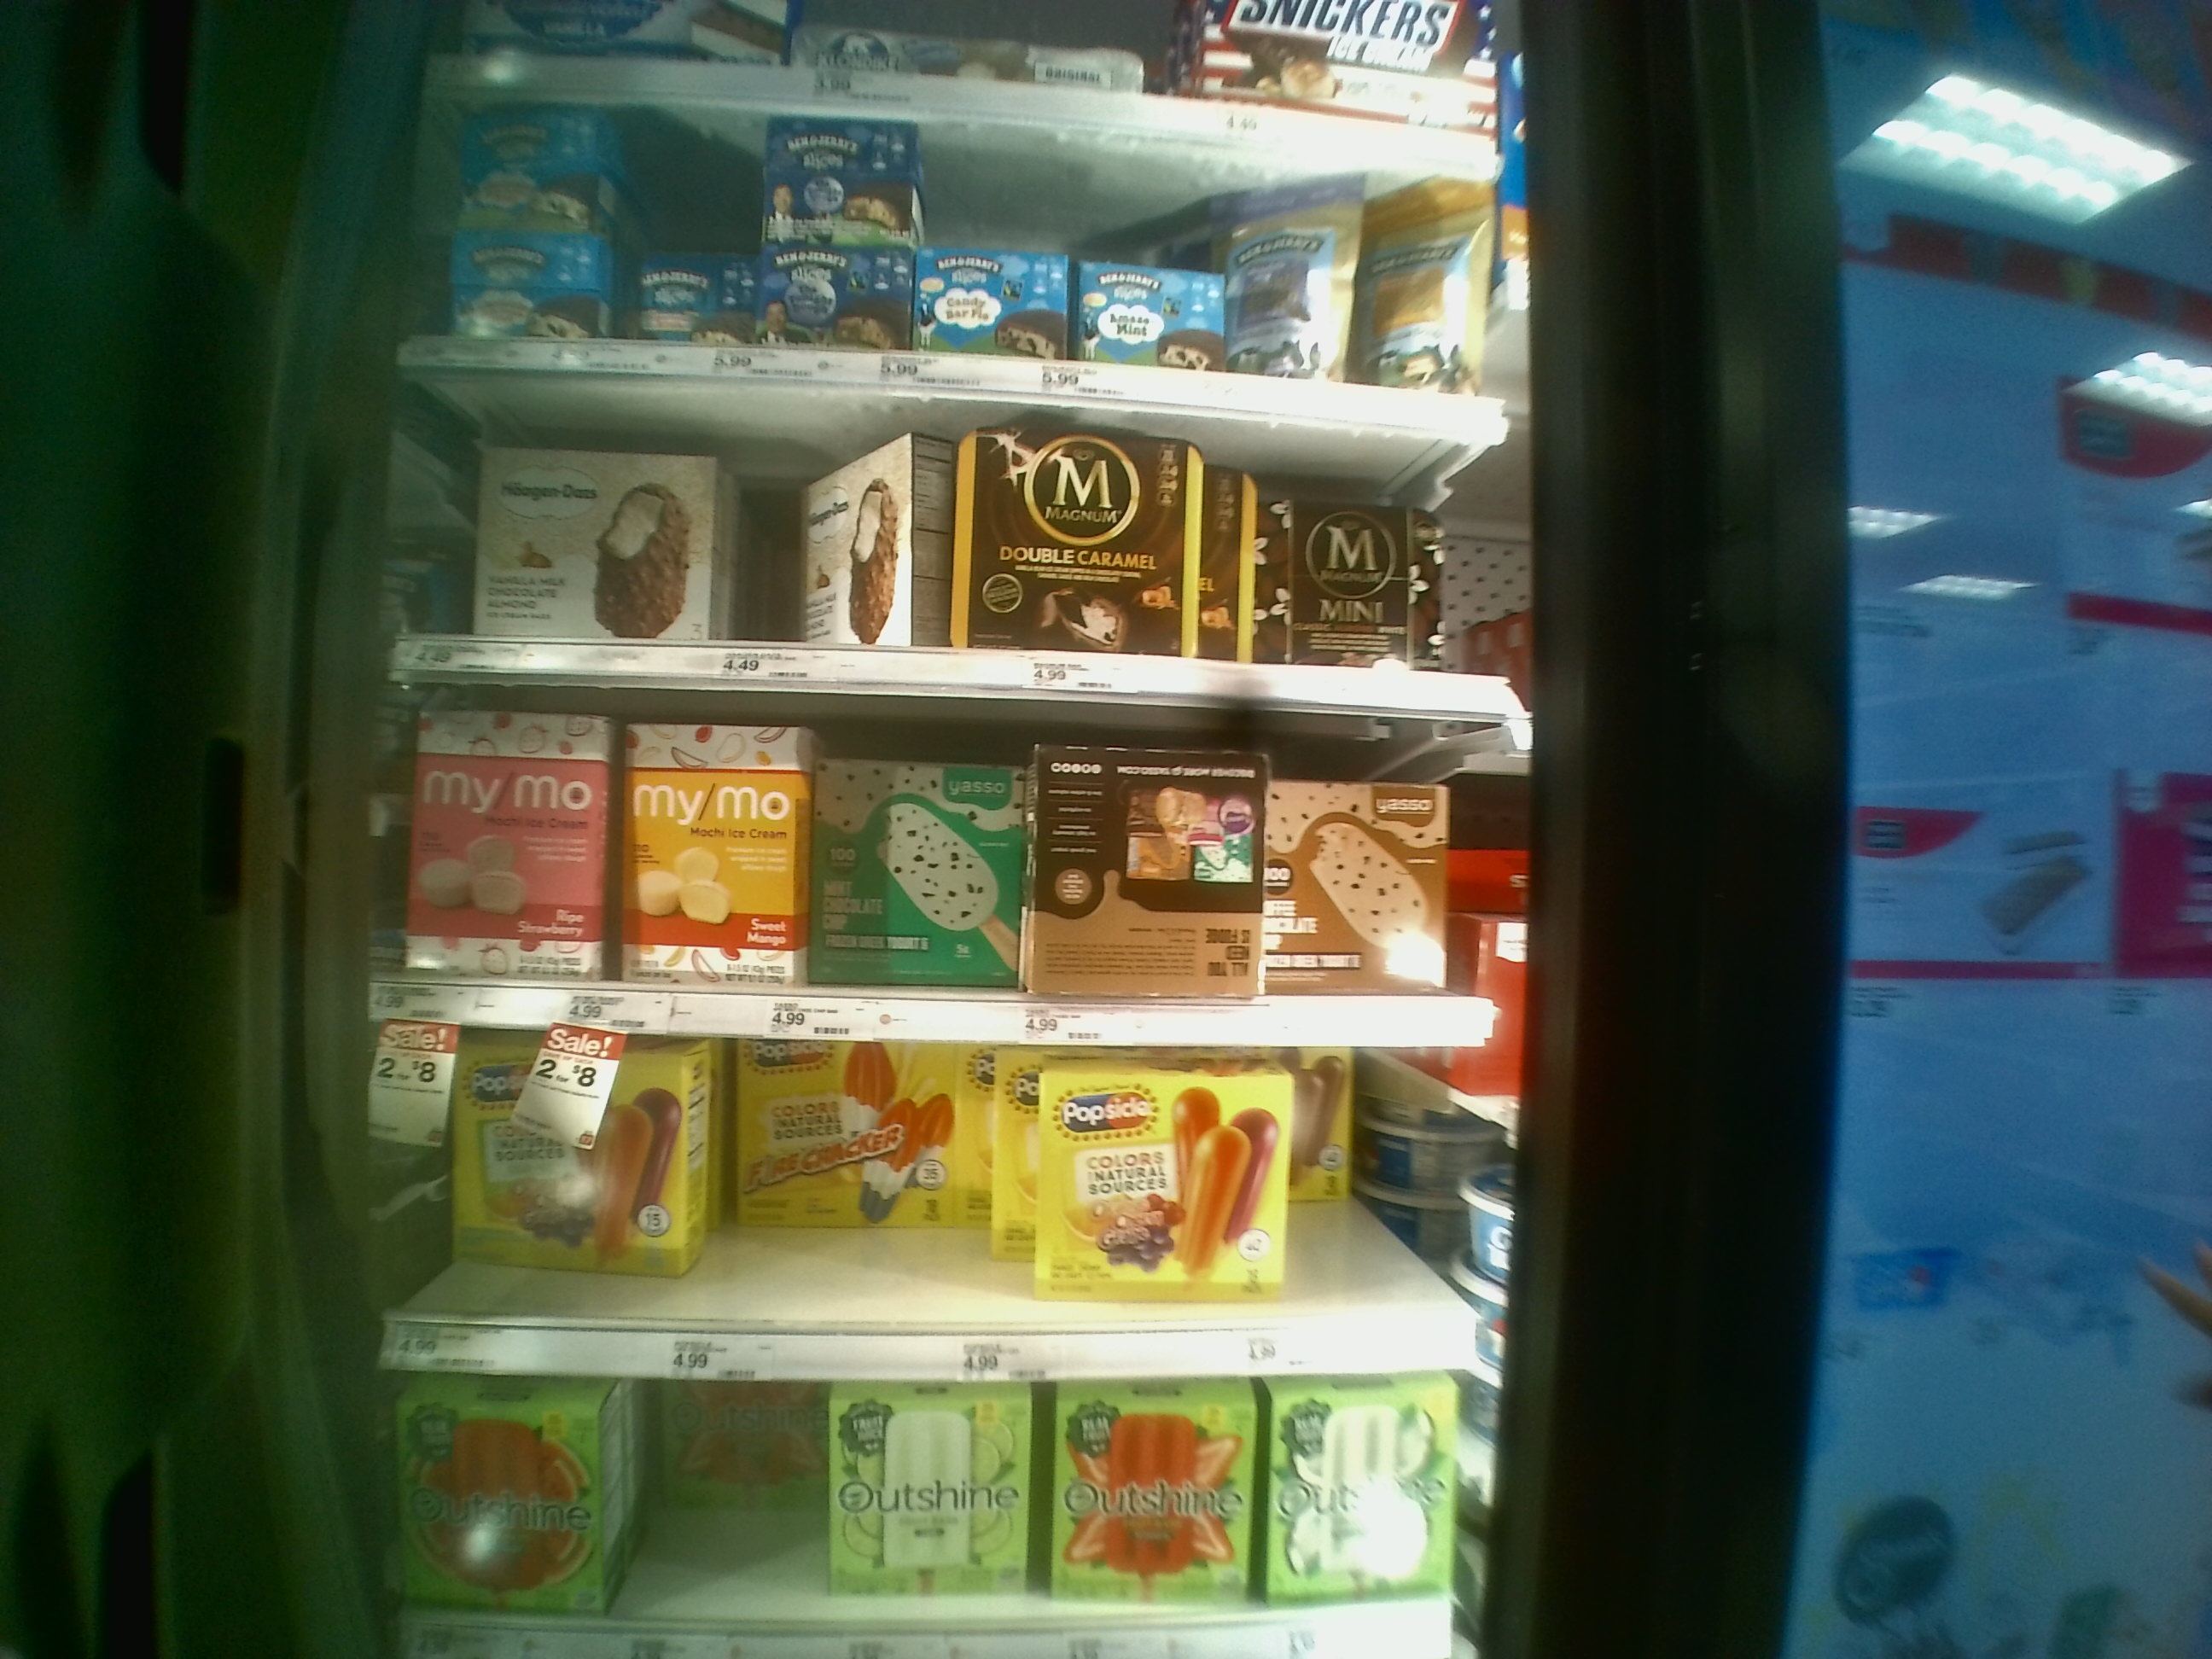shelf: (359, 706, 1529, 1047), (340, 1044, 1521, 1378), (366, 408, 1538, 723)
